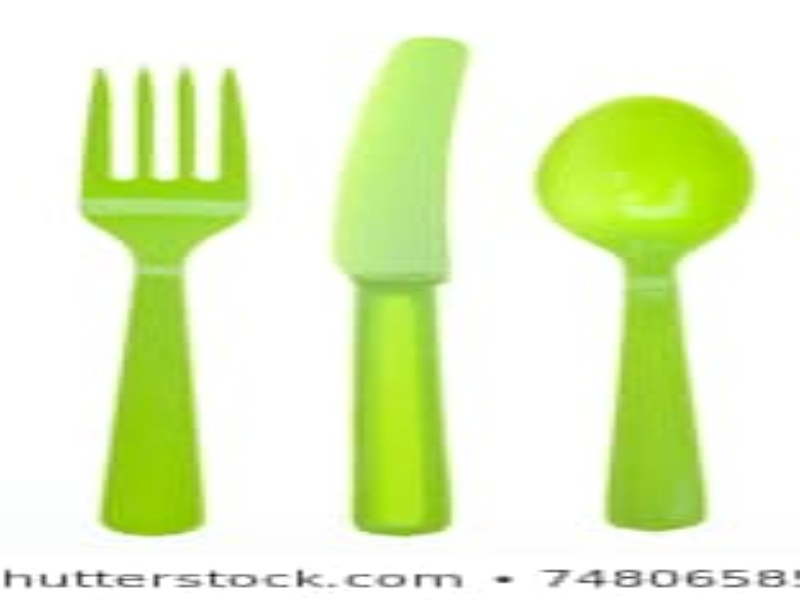plastic-silverware: (527, 92, 759, 533), (77, 64, 255, 539), (335, 33, 481, 536)
